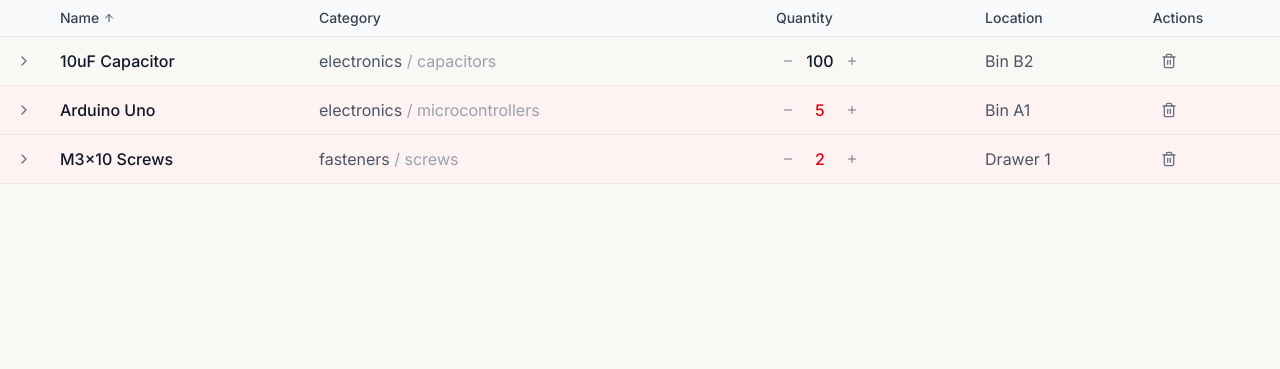
Test: InventoryList › expandable rows › should expand row to show details on click
What coordinates should you click on to do the following:
click the button named "expand"
I would click on:
 (24, 110)
Its box is [8, 94, 40, 126].
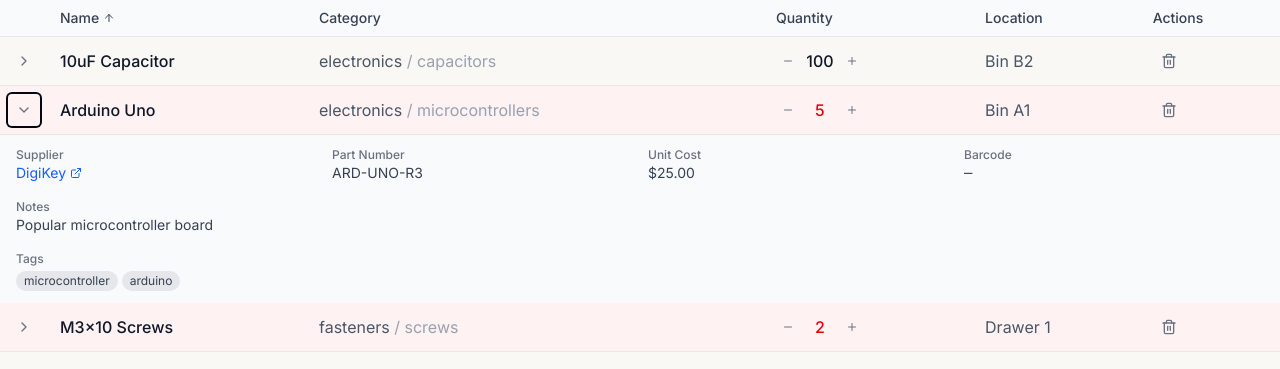
Result: the text "Popular microcontroller board" is shown at [16, 216, 213, 233]
Result: the link "DigiKey" is shown at [16, 163, 82, 183]
Result: the text "ARD-UNO-R3" is shown at [332, 164, 423, 181]
